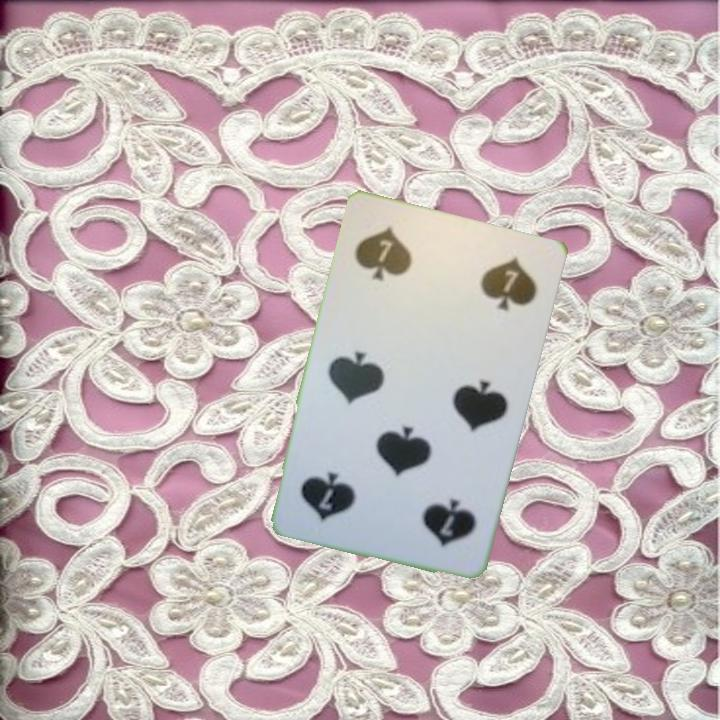s_7.png: (341, 208, 458, 315), (374, 460, 490, 567)
